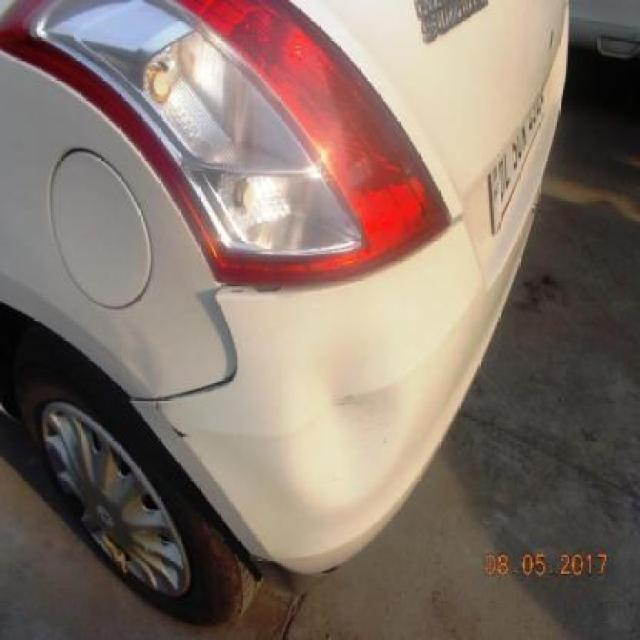rear-bumper-dent: (90, 262, 509, 621)
